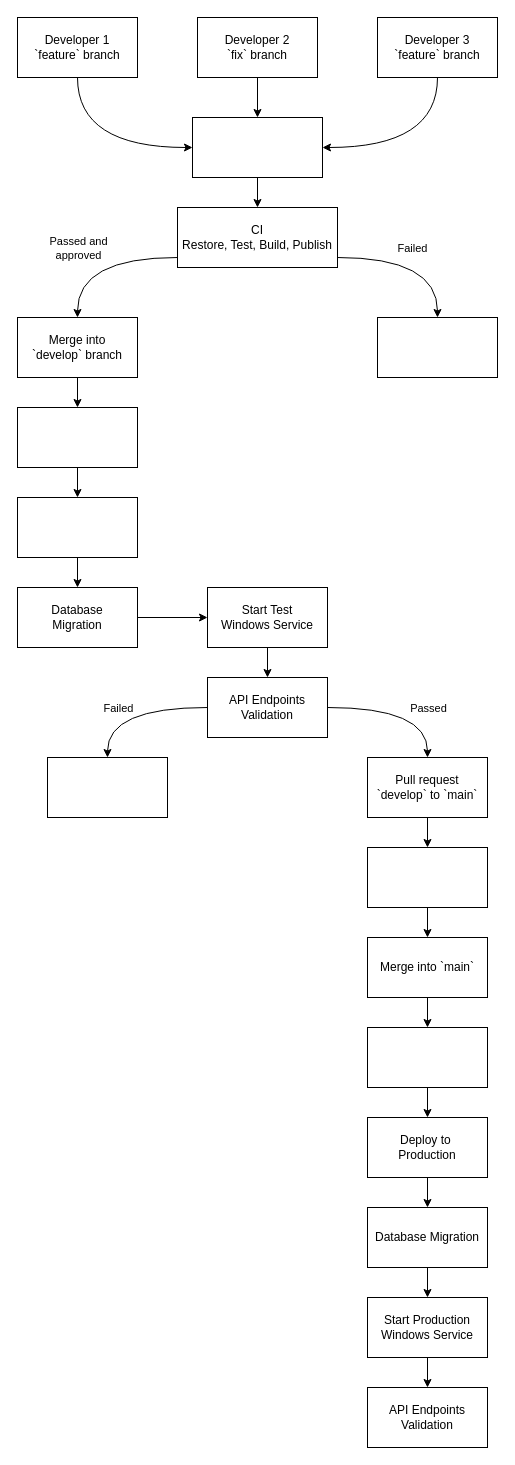
Some shapes in this 515 by 1465 pixel diagram are drawn without their labels. The box of each missing label's shape, as (x1, y1, x2, y2) in pixels:
Build Production release artifact: (366, 1026, 488, 1088)
Build Test release artifact: (16, 406, 138, 468)
CI validation: (366, 846, 488, 908)
Deploy to Test: (16, 496, 138, 558)
Investigate or restore backup: (46, 756, 168, 818)
Pull request to `develop` branch: (192, 116, 322, 178)
Return to developer: (376, 316, 498, 378)
